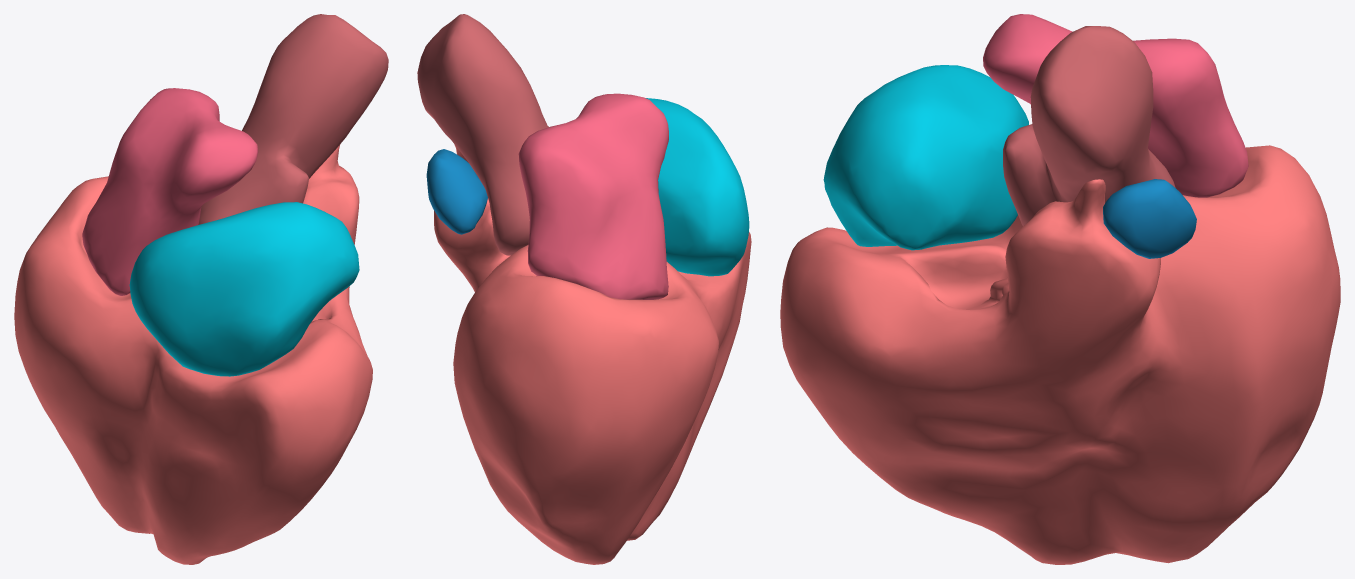
File: frame_17.glb
3 views of the same model, side by side, from view 1: azimuth 30°, elevation 25°; view 2: azimuth 150°, elevation 25°; view 3: azimuth 270°, elevation 25° (orthographic). The views are drawn at different scales.
Parts seen in each view (by area): view 1: Renderer Node; view 2: Renderer Node; view 3: Renderer Node.
Part boxes in pixels (x1,y1,x2,y2): Renderer Node: (14, 14, 388, 564); Renderer Node: (417, 14, 751, 564); Renderer Node: (780, 14, 1340, 564).
Size of the model in its own units: 105 by 160 by 128.
